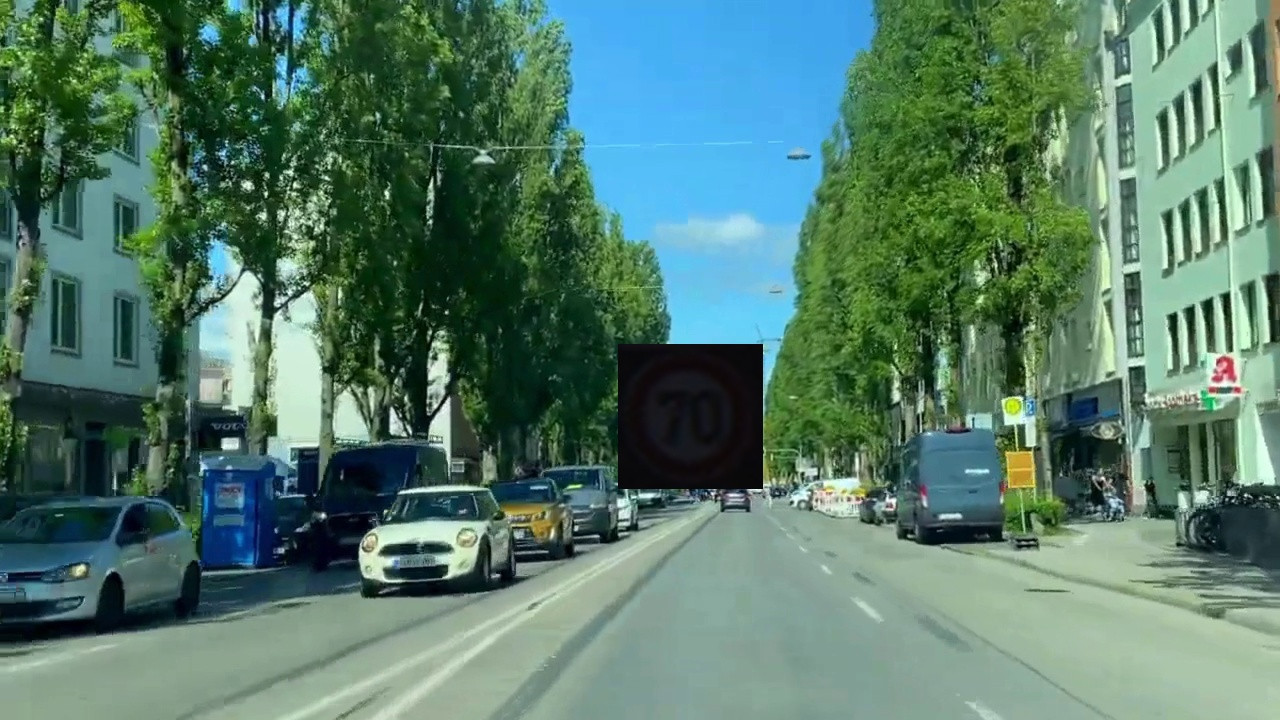Speed 70: (618, 344, 763, 489)
